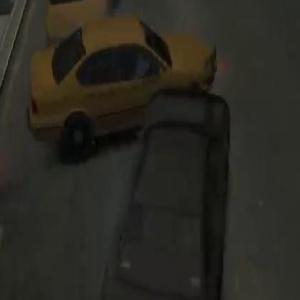low_impact: (20, 0, 238, 300)
